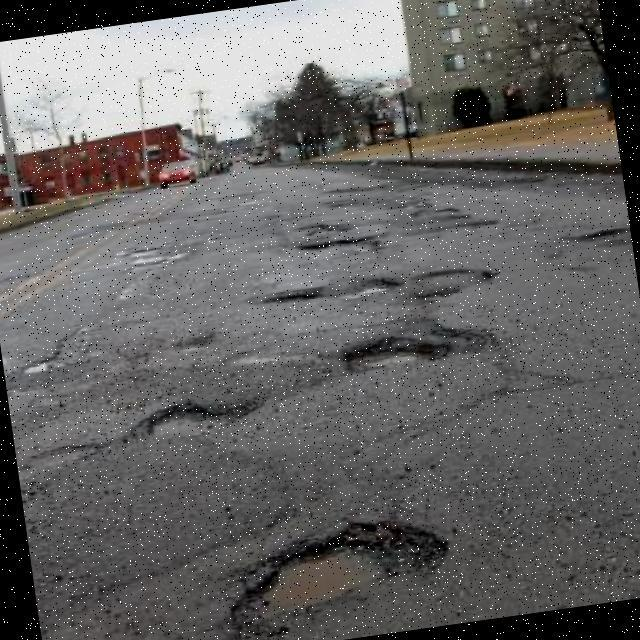Pothole: (250, 522, 449, 617), (245, 274, 402, 313), (141, 388, 254, 440), (346, 337, 449, 370)
